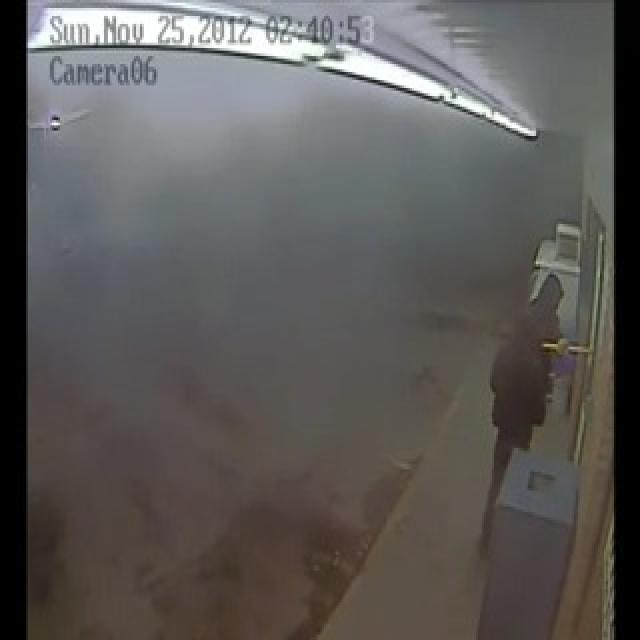burglary: (519, 275, 605, 477)
